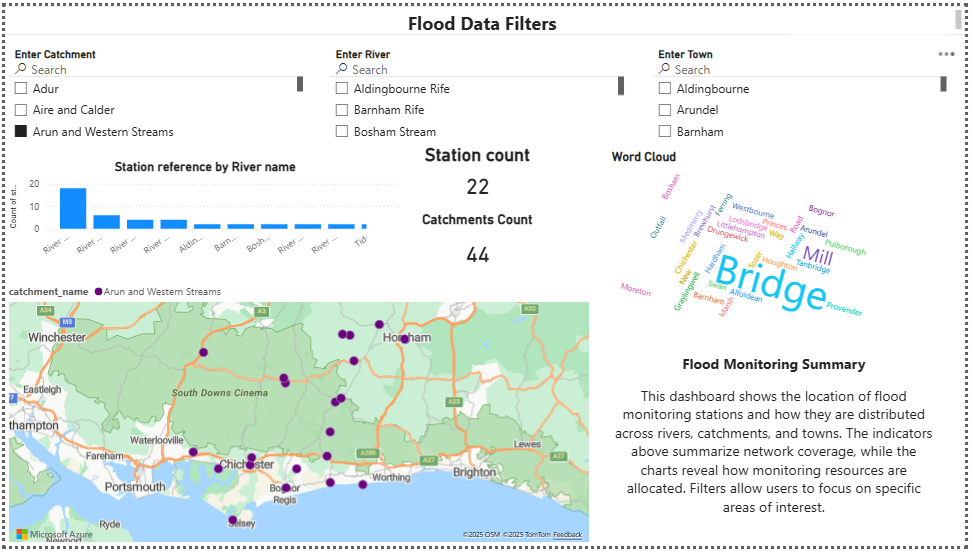

The page's visual inventory and layout, read from the dashboard file:
{"tool":"powerbi","page":{"name":"Page 1","canvas":[1280,720],"ordinal":0},"visuals":[{"type":"azureMap","fields":{"Y":["Query1.lat"],"X":["Query1.lon"],"Series":["Query1.catchment_name"]},"box":[0,360,784,360],"z":0},{"type":"slicer","fields":{"Values":["Query1.catchment_name"]},"box":[0,50,402,134],"z":1},{"type":"slicer","fields":{"Values":["Query1.river_name"]},"box":[428,50,402,134],"z":2},{"type":"slicer","fields":{"Values":["Query1.town"]},"box":[858,50,402,134],"z":3},{"type":"WordCloud1447959067750","title":"Word Cloud","fields":{"Category":["Query1.station_label"],"Values":["Min(Query1.catchment_name)","select"]},"box":[804,190,442,288],"z":4},{"type":"textbox","box":[0,0,1280,38.6],"z":5},{"type":"textbox","box":[1044,0,216,38],"z":8},{"type":"clusteredColumnChart","title":"Station reference by River name","fields":{"Category":["Query1.river_name"],"Y":["CountNonNull(Query1.station_reference)"]},"box":[0,204,534,140],"z":9},{"type":"card","title":"Station count","fields":{"Values":["Count(Query1.station_reference)"]},"box":[482,184,296,80],"z":11},{"type":"card","title":"Catchments Count","fields":{"Values":["CountNonNull(Query1.catchment_name)"]},"box":[482,274,296,90],"z":12},{"type":"textbox","box":[804,458,442,262],"z":13}]}

Visuals, with their boxes in screenshot pixels (x1, y1, x2, y2), scaled from the page's 1280x720 canvas onto the 973x554 screenshot:
azureMap - Query1.lat x Query1.lon: box(0, 277, 596, 553)
slicer - Query1.catchment_name: box(0, 38, 306, 142)
slicer - Query1.river_name: box(325, 38, 631, 142)
slicer - Query1.town: box(652, 38, 958, 142)
"Word Cloud" WordCloud1447959067750: box(611, 146, 947, 368)
textbox: box(0, 0, 972, 30)
textbox: box(794, 0, 958, 29)
"Station reference by River name" clusteredColumnChart: box(0, 157, 406, 265)
"Station count" card: box(366, 142, 591, 203)
"Catchments Count" card: box(366, 211, 591, 280)
textbox: box(611, 352, 947, 553)
